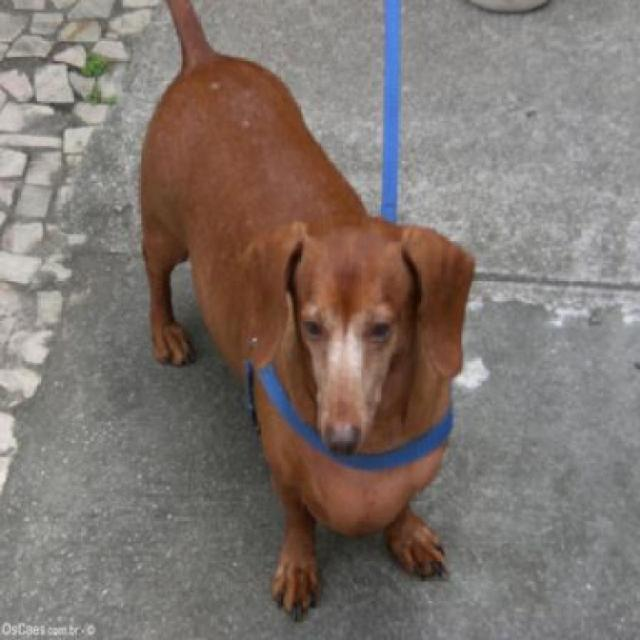Dog: (136, 0, 476, 620)
